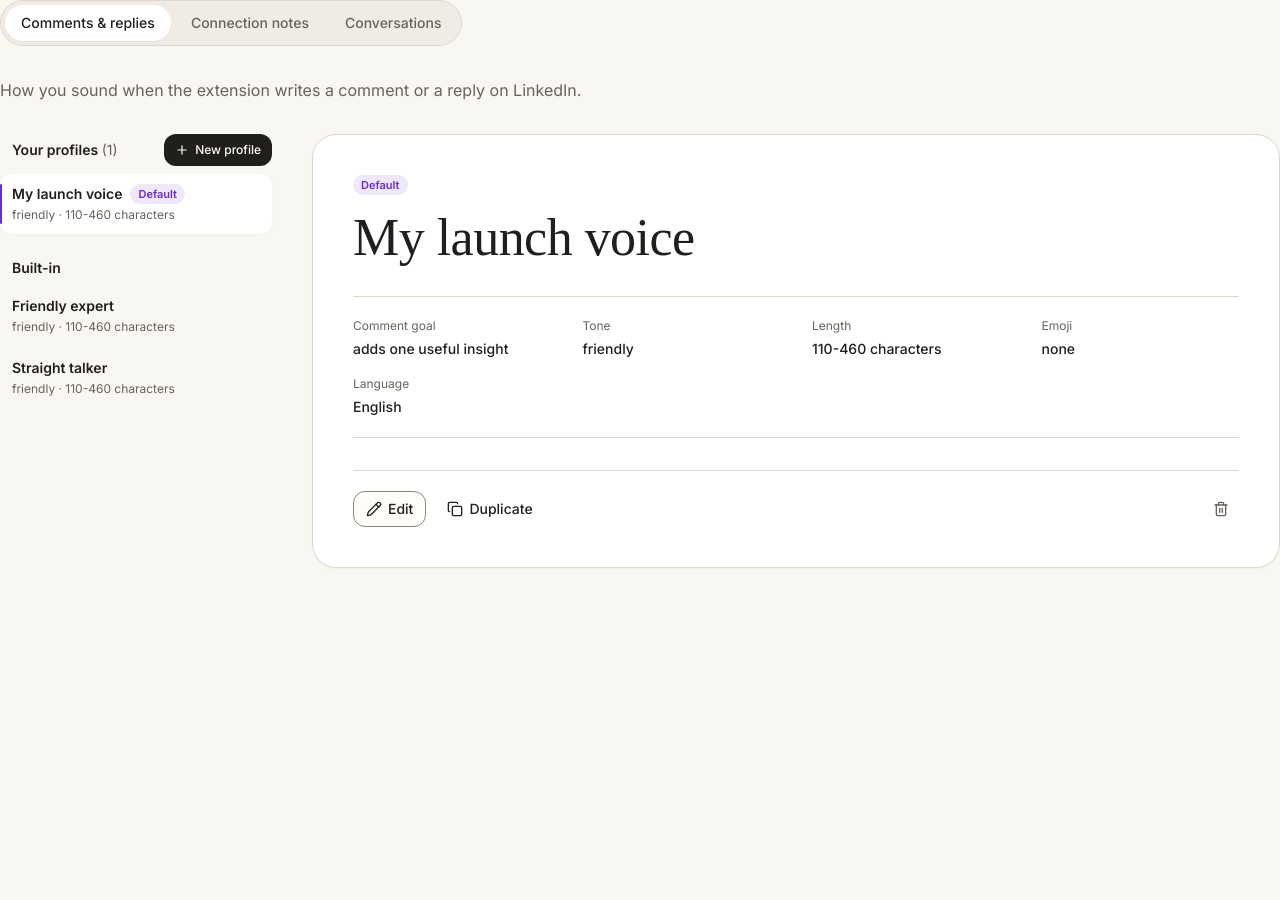
Custom tones in the browser › shows the page at once and fetches nothing, on load or switching tabs
Expected: the button "My launch voice Default friendly · 110-460 characters" is shown, [0, 174, 272, 234]
Click the button "Connection notes".
click(250, 23)  # box [175, 5, 325, 41]
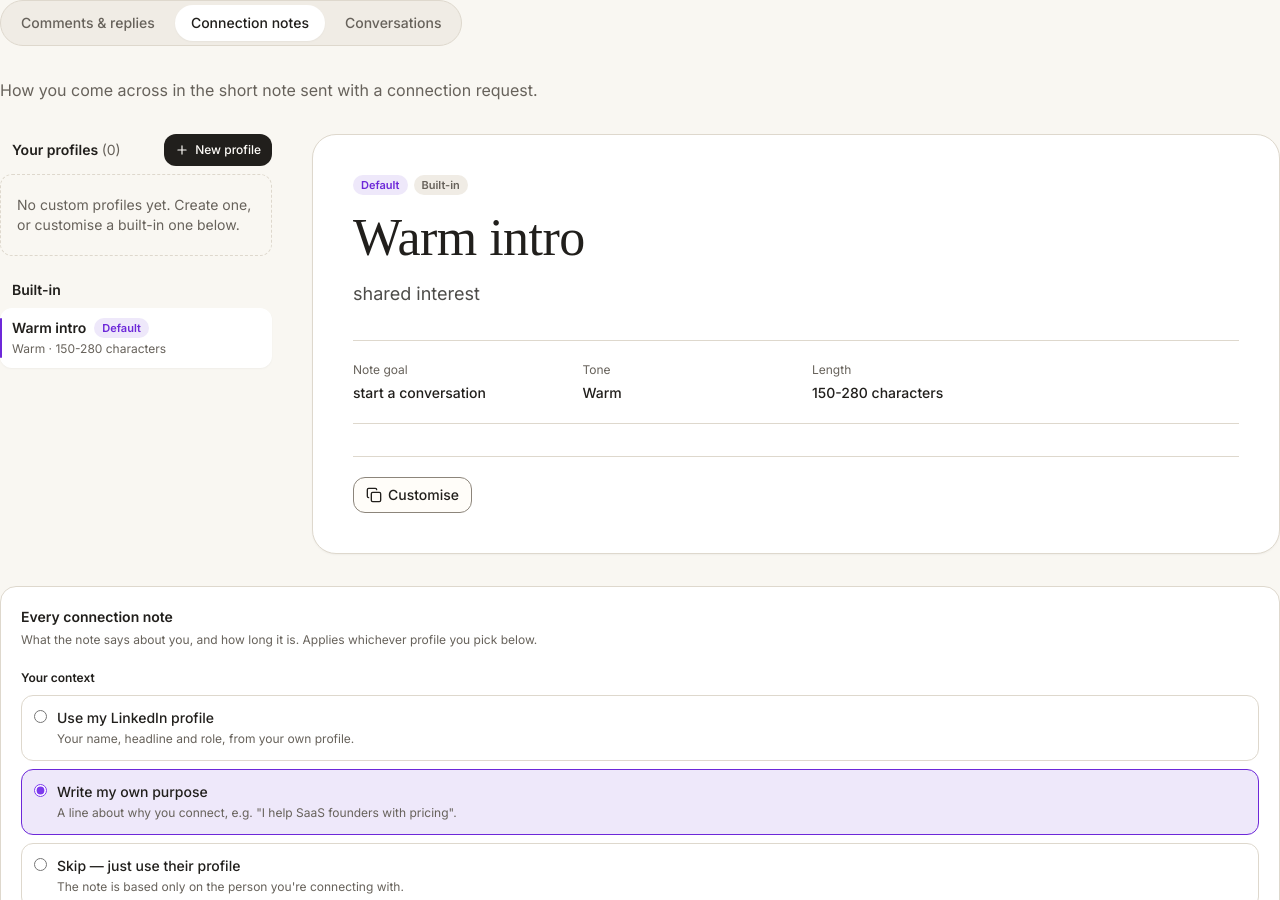
Click the button "Conversations".
click(393, 23)  # box [329, 5, 457, 41]
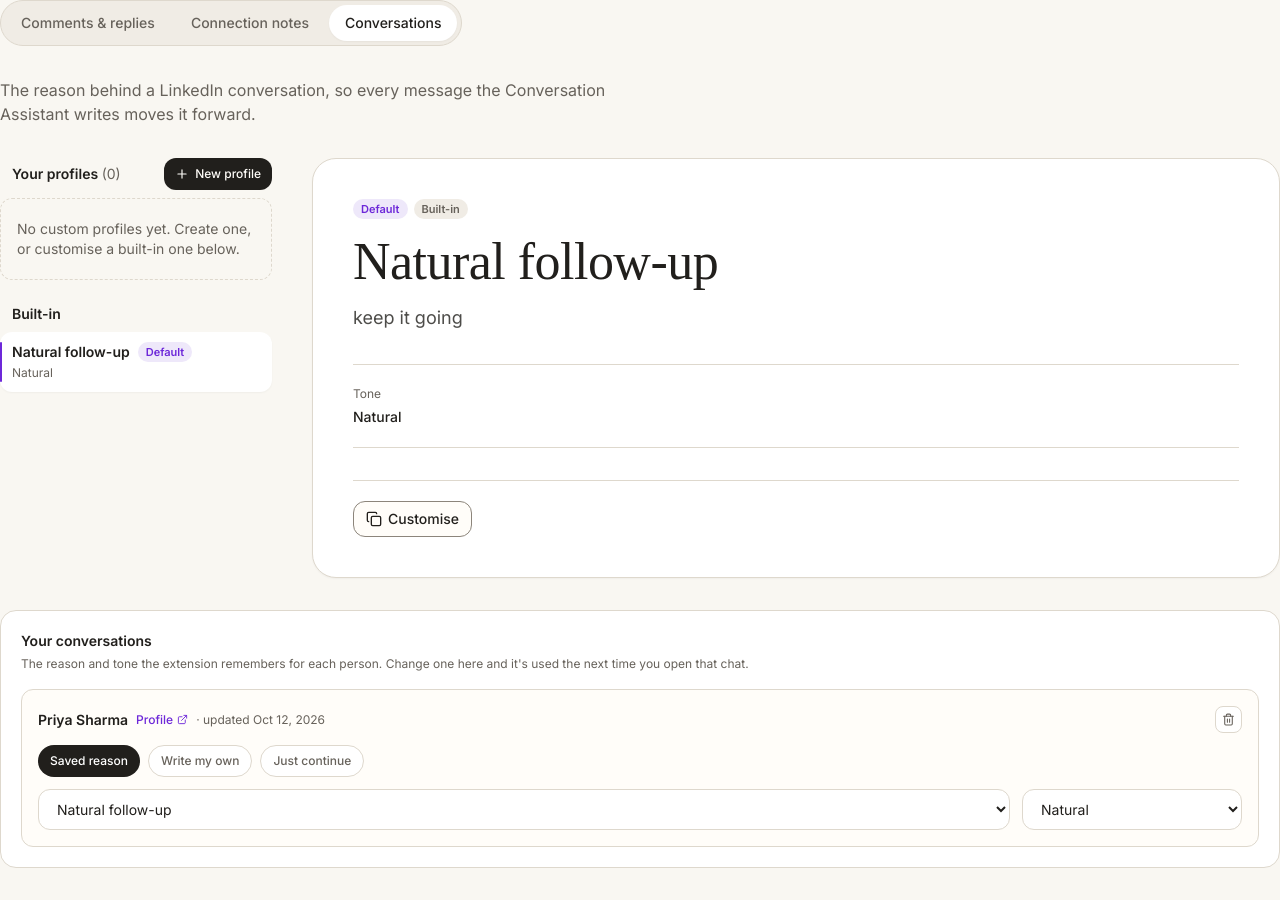
Now the text "Priya Sharma" is shown, box [38, 710, 128, 730]
Click the button "Comments & replies".
click(88, 23)  # box [5, 5, 171, 41]
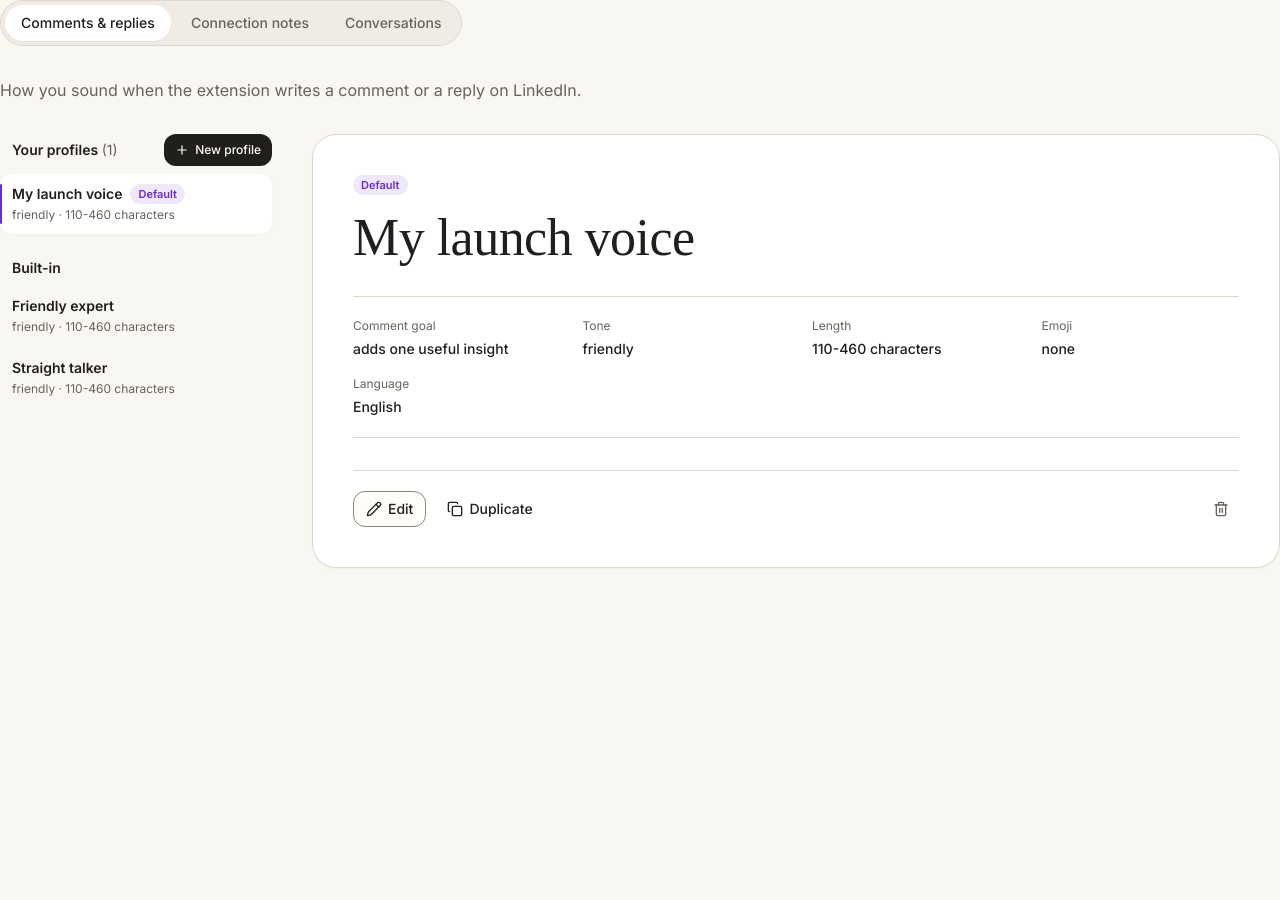
Now the button "My launch voice Default friendly · 110-460 characters" is shown, box [0, 174, 272, 234]
